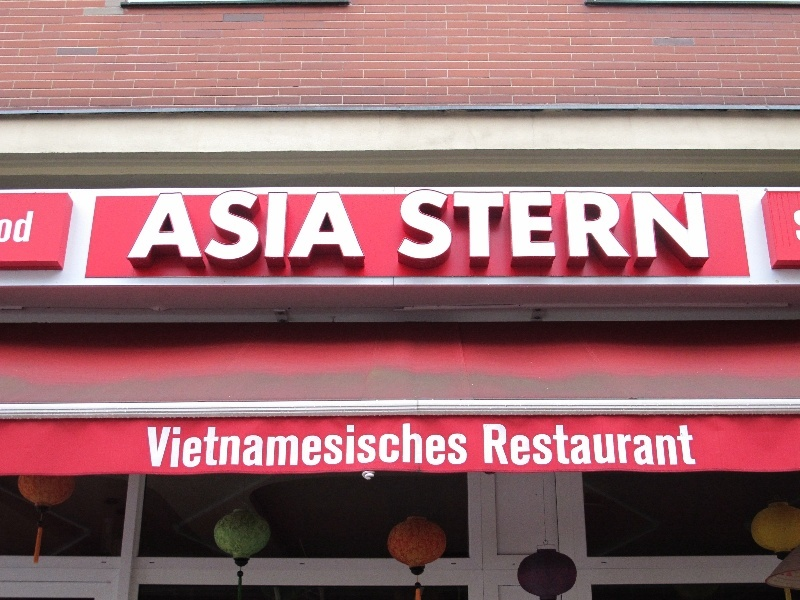text: (417, 189, 432, 272), (433, 189, 448, 272), (449, 189, 464, 272), (465, 189, 480, 272), (481, 189, 496, 272), (497, 189, 512, 272), (513, 189, 528, 272), (529, 189, 544, 272), (545, 189, 560, 272), (561, 189, 576, 272), (577, 189, 592, 272), (593, 189, 608, 272), (609, 189, 624, 272), (625, 189, 640, 272), (641, 189, 656, 272), (657, 189, 672, 272), (673, 189, 688, 272), (689, 189, 704, 272), (161, 189, 176, 272), (177, 189, 192, 272), (193, 189, 208, 272), (209, 189, 224, 272), (225, 189, 240, 272), (241, 189, 256, 272), (257, 189, 272, 272), (273, 189, 288, 272), (289, 189, 304, 272), (305, 189, 320, 272), (321, 189, 336, 272), (337, 189, 352, 272), (353, 189, 368, 272), (402, 189, 416, 272), (161, 423, 176, 468), (177, 423, 192, 468), (193, 423, 208, 468), (209, 423, 224, 468), (225, 423, 240, 468), (241, 423, 256, 468), (257, 423, 272, 468), (273, 423, 288, 468), (289, 423, 304, 468), (305, 423, 320, 468), (321, 423, 336, 468), (337, 423, 352, 468), (353, 423, 368, 468), (369, 423, 384, 468), (385, 423, 400, 468), (401, 423, 416, 468), (417, 423, 432, 468), (433, 423, 448, 468), (449, 423, 464, 468), (497, 424, 512, 466), (513, 424, 528, 466), (529, 424, 544, 466), (545, 424, 560, 466), (561, 424, 576, 466), (577, 424, 592, 466), (593, 424, 608, 466), (609, 424, 624, 466), (625, 424, 640, 466), (641, 424, 656, 466), (657, 424, 672, 466), (673, 424, 688, 466), (147, 423, 160, 468), (705, 189, 712, 272), (483, 424, 496, 466), (1, 209, 16, 244), (17, 209, 32, 244), (689, 424, 697, 466), (794, 209, 800, 241), (465, 423, 469, 468), (369, 189, 371, 272), (159, 189, 160, 272), (33, 209, 35, 244)
